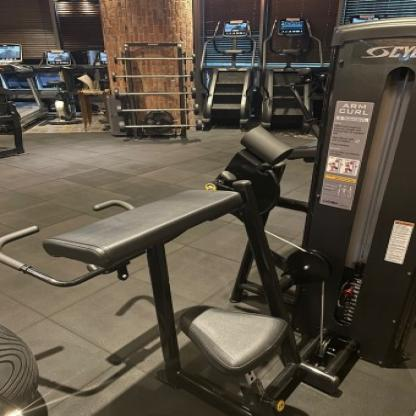arm curl machine: (0, 190, 416, 416)
